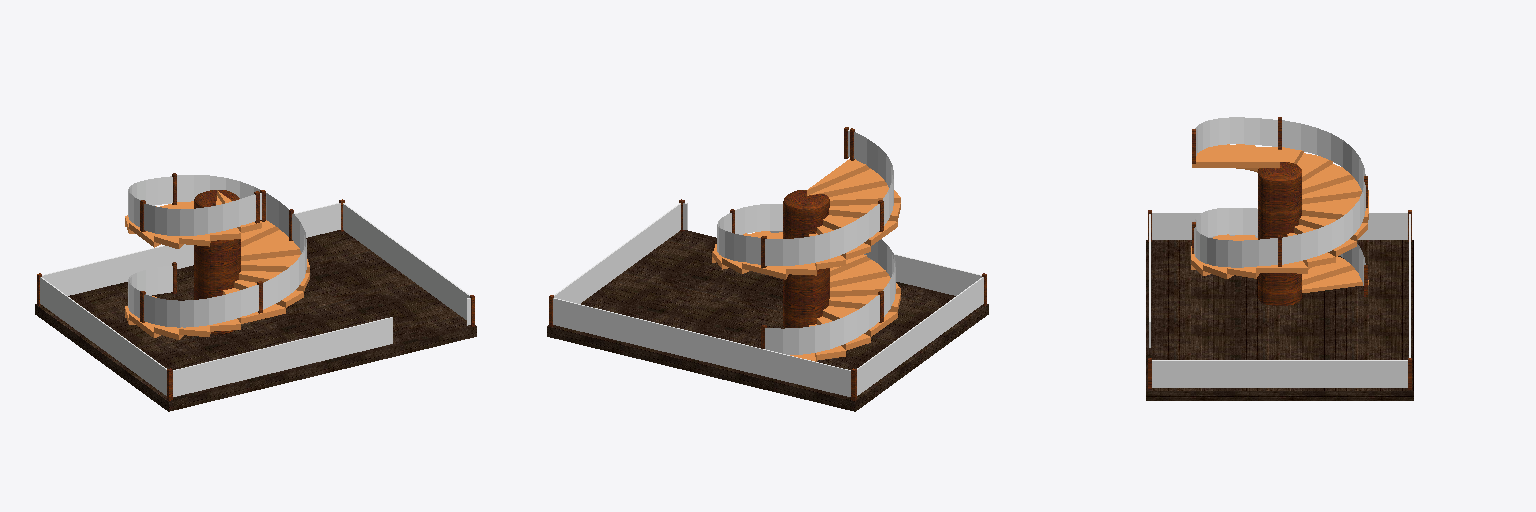
3 views of the same model, side by side, from view 1: azimuth 30°, elevation 25°; view 2: azimuth 150°, elevation 25°; view 3: azimuth 270°, elevation 25° (orthographic).
Visible parts, largest first — view 1: entity0_brush0, entity0_brush13, entity0_brush12, entity0_brush55, entity0_brush11, entity0_patch39, entity0_patch2, entity0_patch52, entity0_patch27, entity0_patch32, entity0_brush31, entity0_patch48 (+2 smaller); view 2: entity0_brush0, entity0_brush12, entity0_brush55, entity0_patch52, entity0_brush11, entity0_patch18, entity0_patch46, entity0_brush13, entity0_patch34, entity0_patch25, entity0_patch4, entity0_brush14 (+10 smaller); view 3: entity0_brush0, entity0_brush11, entity0_patch52, entity0_brush55, entity0_patch25, entity0_patch32, entity0_patch4, entity0_patch20, entity0_patch41, entity0_brush7, entity0_brush24, entity0_brush23 (+6 smaller).
Part boxes in pixels (bbox=[...]): entity0_brush0: bbox=[35, 230, 476, 411]; entity0_brush13: bbox=[173, 317, 392, 396]; entity0_brush12: bbox=[42, 203, 340, 295]; entity0_brush55: bbox=[40, 277, 166, 395]; entity0_brush11: bbox=[343, 203, 469, 319]; entity0_patch39: bbox=[144, 285, 258, 327]; entity0_patch2: bbox=[144, 195, 255, 235]; entity0_patch52: bbox=[194, 202, 240, 334]; entity0_patch27: bbox=[177, 175, 288, 236]; entity0_patch32: bbox=[263, 213, 306, 309]; entity0_brush31: bbox=[241, 230, 301, 260]; entity0_patch48: bbox=[129, 266, 172, 295]; entity0_brush0: bbox=[547, 230, 988, 411]; entity0_brush12: bbox=[553, 298, 850, 396]; entity0_brush55: bbox=[857, 277, 983, 395]; entity0_patch52: bbox=[783, 202, 829, 327]; entity0_brush11: bbox=[554, 203, 680, 303]; entity0_patch18: bbox=[765, 204, 879, 265]; entity0_patch46: bbox=[765, 295, 879, 354]; entity0_brush13: bbox=[770, 231, 981, 295]; entity0_patch34: bbox=[735, 204, 782, 234]; entity0_patch25: bbox=[717, 213, 760, 264]; entity0_patch4: bbox=[854, 132, 892, 199]; entity0_brush14: bbox=[808, 169, 886, 196]; entity0_brush0: bbox=[1146, 240, 1413, 400]; entity0_brush11: bbox=[1152, 360, 1407, 387]; entity0_patch52: bbox=[1258, 176, 1301, 305]; entity0_brush55: bbox=[1152, 213, 1407, 239]; entity0_patch25: bbox=[1282, 185, 1365, 264]; entity0_patch32: bbox=[1194, 228, 1277, 267]; entity0_patch4: bbox=[1196, 118, 1277, 155]; entity0_patch20: bbox=[1282, 121, 1363, 191]; entity0_patch41: bbox=[1196, 208, 1257, 237]; entity0_brush7: bbox=[1192, 153, 1279, 167]; entity0_brush24: bbox=[1302, 196, 1368, 222]; entity0_brush23: bbox=[1302, 179, 1368, 204].
Size of the model in its own units: 512 by 334 by 384.
4 materials, 2 textured.